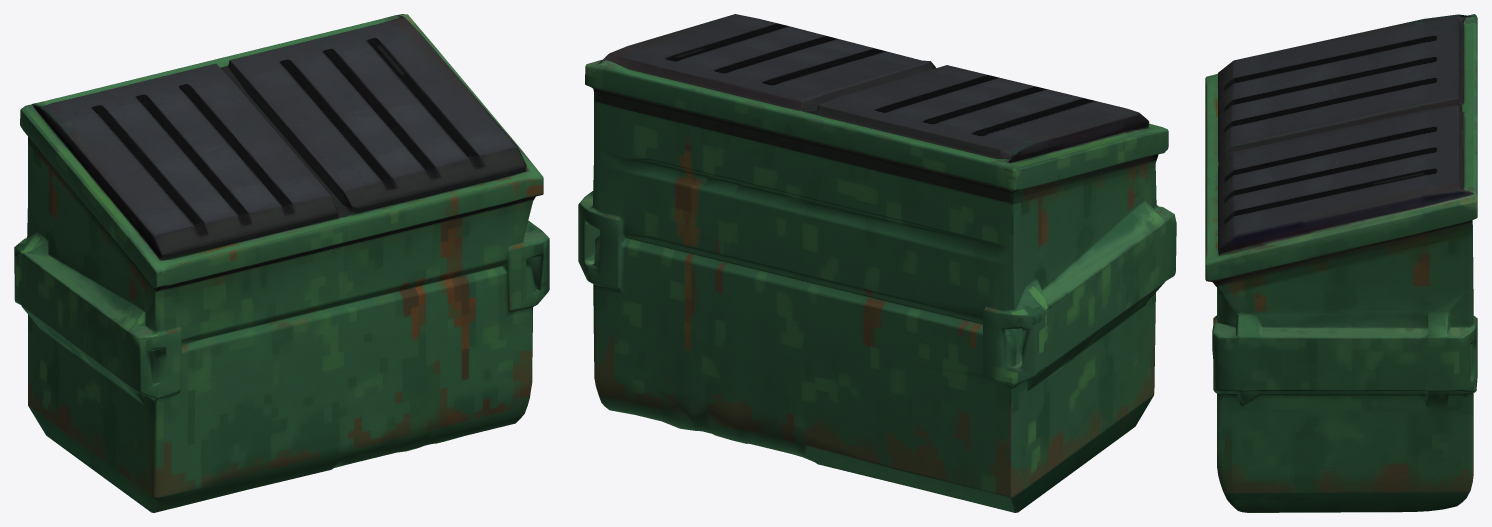
The model's file is PROP_DUMPSTER.glb.
The picture shows the model from 3 angles, left to right: view 1: azimuth 30°, elevation 25°; view 2: azimuth 150°, elevation 25°; view 3: azimuth 270°, elevation 25°; orthographic projection. The views are drawn at different scales.
Size of the model in its own units: 1.91 by 1.44 by 1.09.
Materials: 1 (1 with a texture image).
